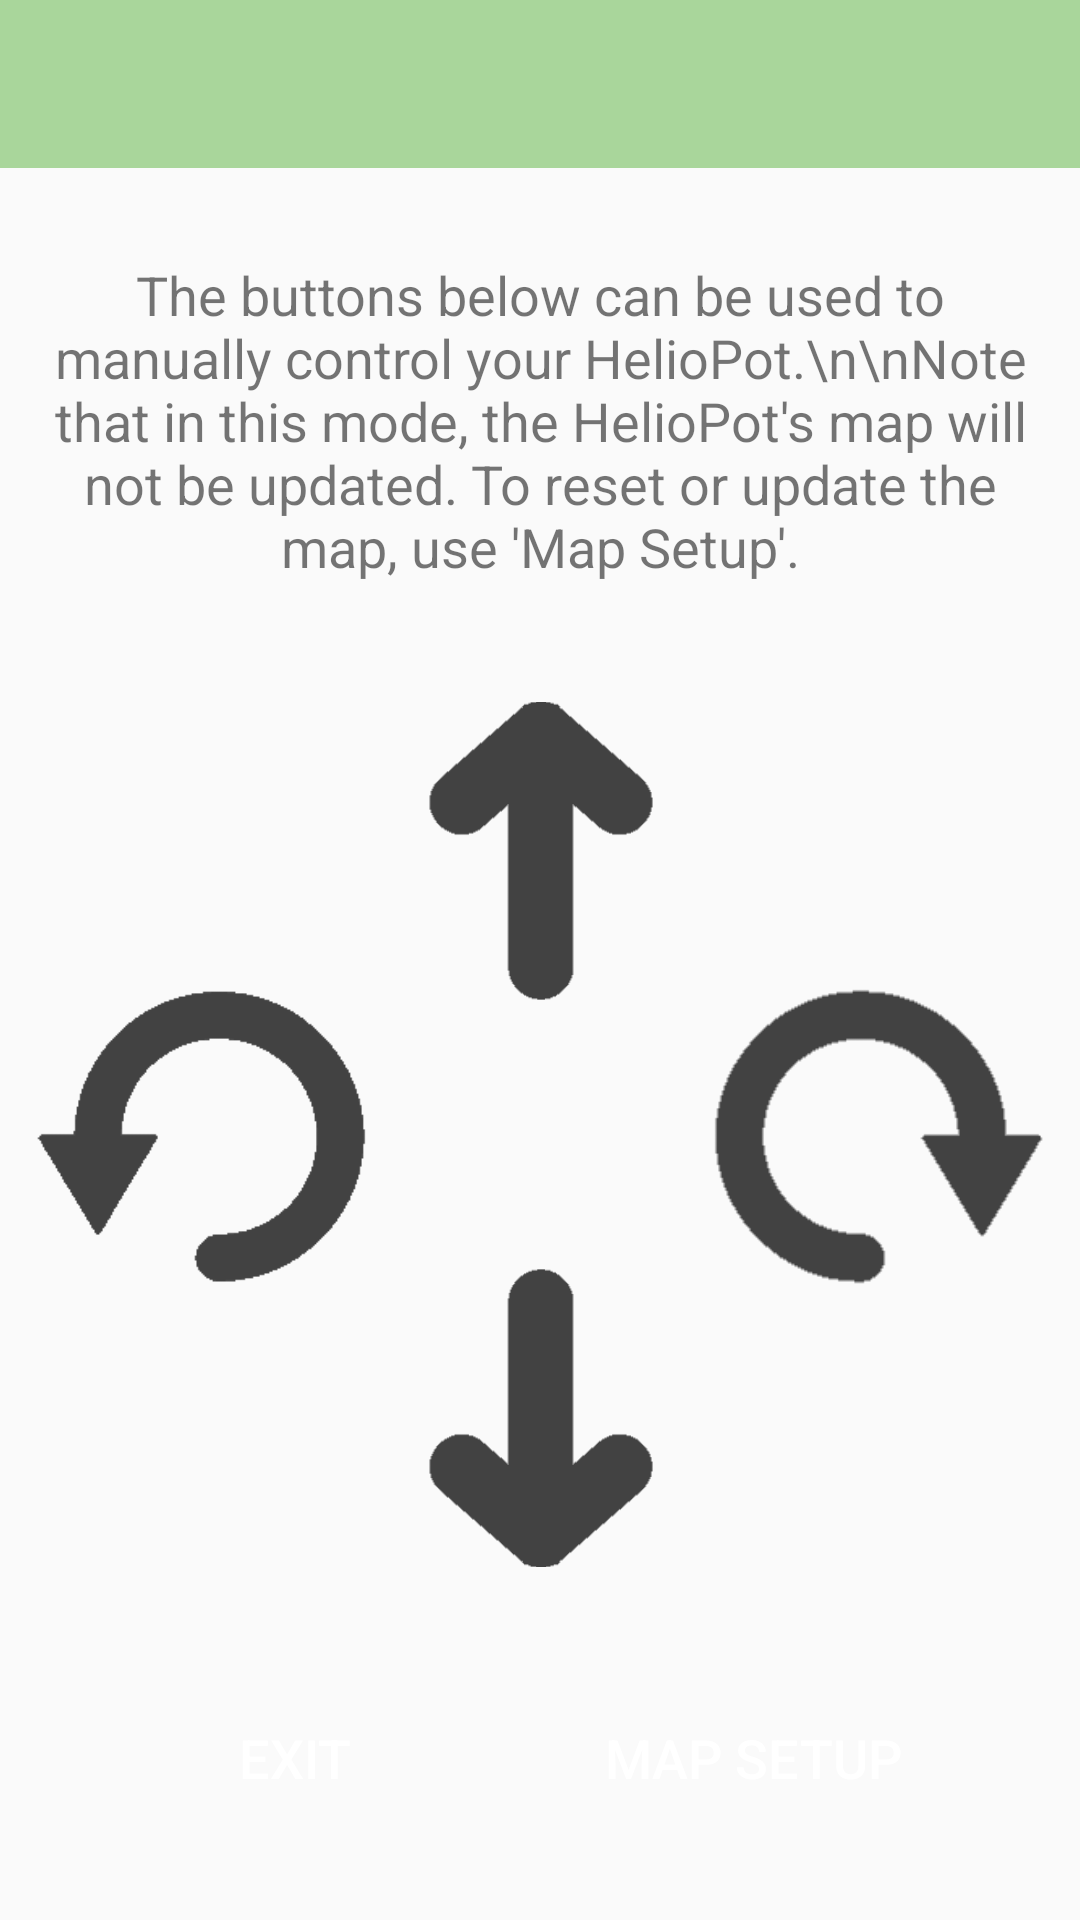

Screen size 1080w x 1920h. Icon name, then its box in pixels as box=[x1, y1, x2, y2]:
down: box=[429, 1269, 653, 1567]
left: box=[37, 991, 365, 1282]
right: box=[715, 990, 1043, 1283]
